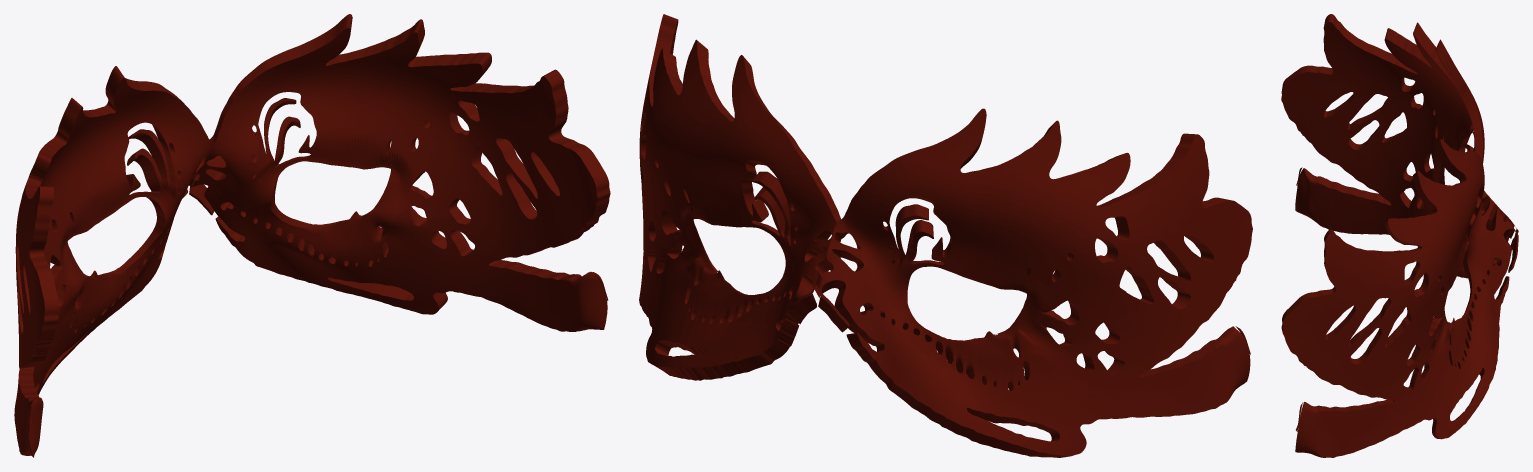
File: red_mask.fbx
The picture shows the model from 3 angles, left to right: view 1: azimuth 30°, elevation 25°; view 2: azimuth 150°, elevation 25°; view 3: azimuth 270°, elevation 25°; orthographic projection. The views are drawn at different scales.
Visible parts, largest first — view 1: uploads_files_55304_mask1; view 2: uploads_files_55304_mask1; view 3: uploads_files_55304_mask1.
Part boxes in pixels (left/top/right/bottom): uploads_files_55304_mask1: left=14, top=14, right=610, bottom=457; uploads_files_55304_mask1: left=639, top=14, right=1252, bottom=457; uploads_files_55304_mask1: left=1281, top=14, right=1518, bottom=457.
Bounding box in the file's own units: 23.16 × 12.45 × 9.85.
